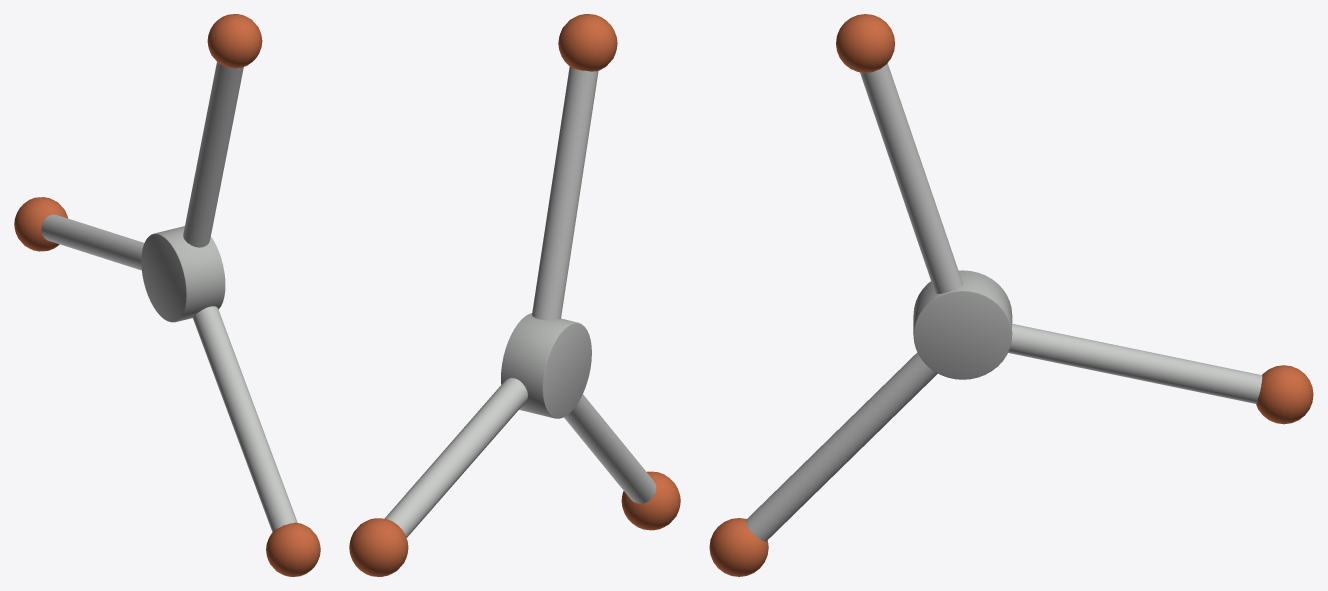
The model's file is diamond_core_drill_rig_feed_lever.glb.
The picture shows the model from 3 angles, left to right: view 1: azimuth 30°, elevation 25°; view 2: azimuth 150°, elevation 25°; view 3: azimuth 270°, elevation 25°; orthographic projection. The views are drawn at different scales.
Visible parts, largest first — view 1: diamond_core_drill_rig_feed_lever; view 2: diamond_core_drill_rig_feed_lever; view 3: diamond_core_drill_rig_feed_lever.
Part boxes in pixels (left/top/right/bottom): diamond_core_drill_rig_feed_lever: left=14, top=14, right=320, bottom=576; diamond_core_drill_rig_feed_lever: left=349, top=14, right=680, bottom=576; diamond_core_drill_rig_feed_lever: left=709, top=14, right=1313, bottom=576.
Size of the model in its own units: 0.038 by 0.3738 by 0.3669.
